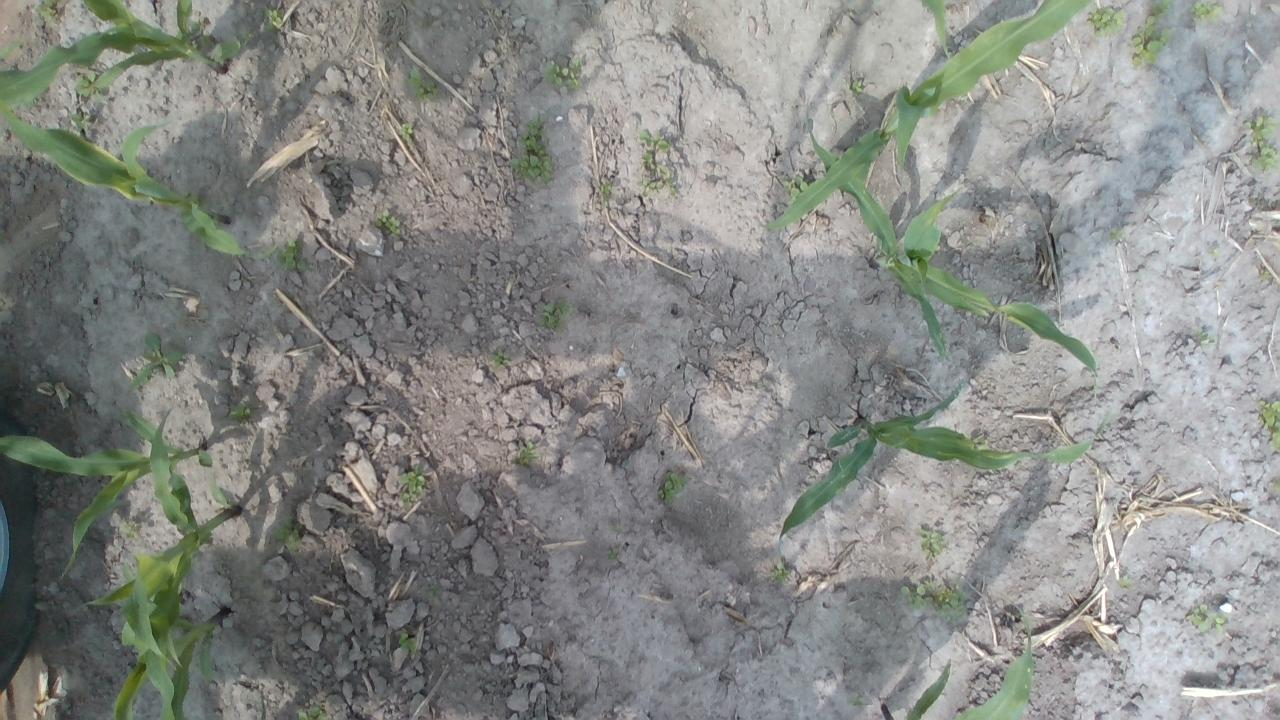Maize: (806, 119, 1103, 393), (764, 1, 1098, 234), (778, 388, 1099, 543), (0, 110, 284, 264), (74, 473, 246, 715), (0, 408, 215, 578), (1, 1, 250, 112), (880, 615, 1036, 720), (101, 604, 238, 718)
Weeds: (1128, 1, 1174, 71), (126, 334, 182, 390), (639, 129, 680, 198), (905, 578, 966, 615), (67, 72, 105, 128), (515, 127, 548, 183), (1246, 118, 1278, 170), (540, 57, 582, 90), (1256, 399, 1280, 446), (1188, 603, 1226, 632), (658, 470, 685, 508), (1092, 6, 1124, 38), (536, 302, 571, 331), (920, 528, 946, 560), (398, 474, 426, 503), (408, 66, 432, 98), (273, 520, 300, 548), (32, 0, 54, 29), (260, 6, 284, 32), (1190, 2, 1220, 20), (398, 632, 422, 654), (518, 442, 540, 466), (376, 216, 399, 236), (297, 706, 329, 720), (280, 243, 300, 263), (120, 522, 138, 540), (490, 354, 510, 368), (774, 565, 790, 582), (851, 76, 866, 94), (599, 180, 613, 196), (1272, 479, 1280, 498)
